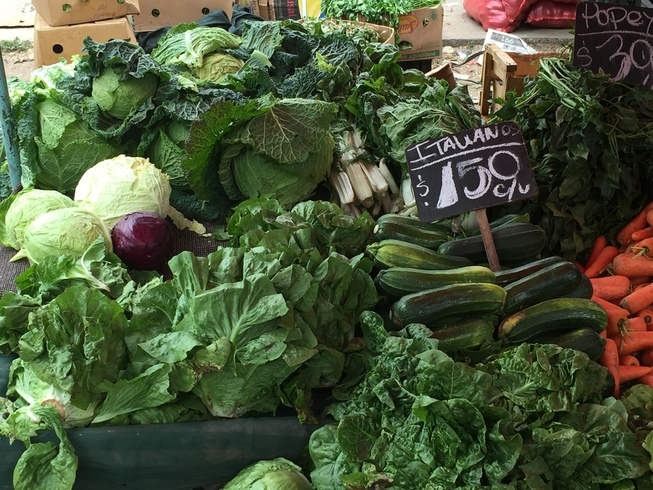precio: (395, 117, 552, 221), (568, 1, 652, 87)
